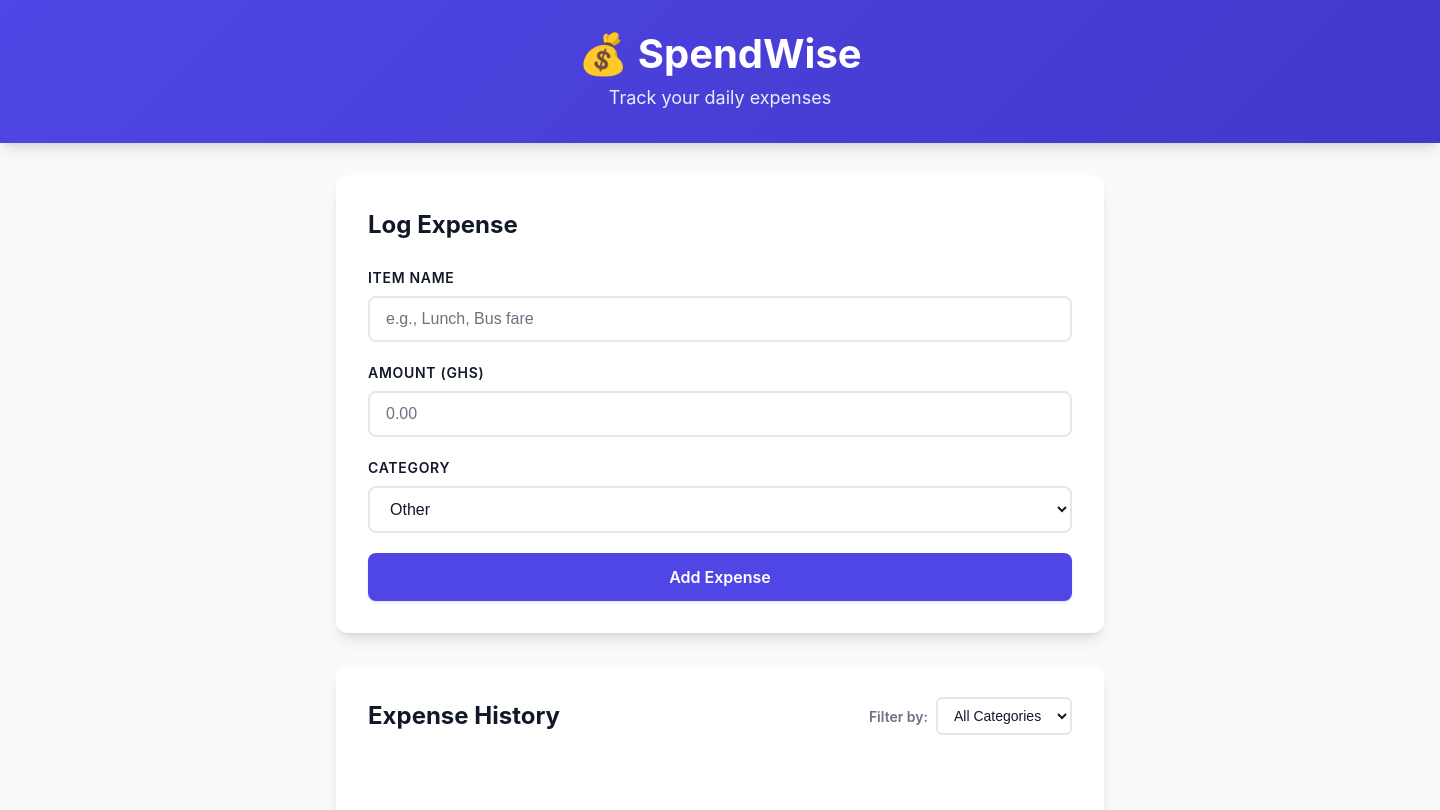
it: User Story 1: Log Expense - Frontend UI › Acceptance Criteria #2: Add Expense button saves to database › should display success message after successful submission
This screenshot has width=1440, height=810.
Type "Coffee" into the field labelled "Item Name". click: [720, 319]
box: [368, 296, 1072, 342]
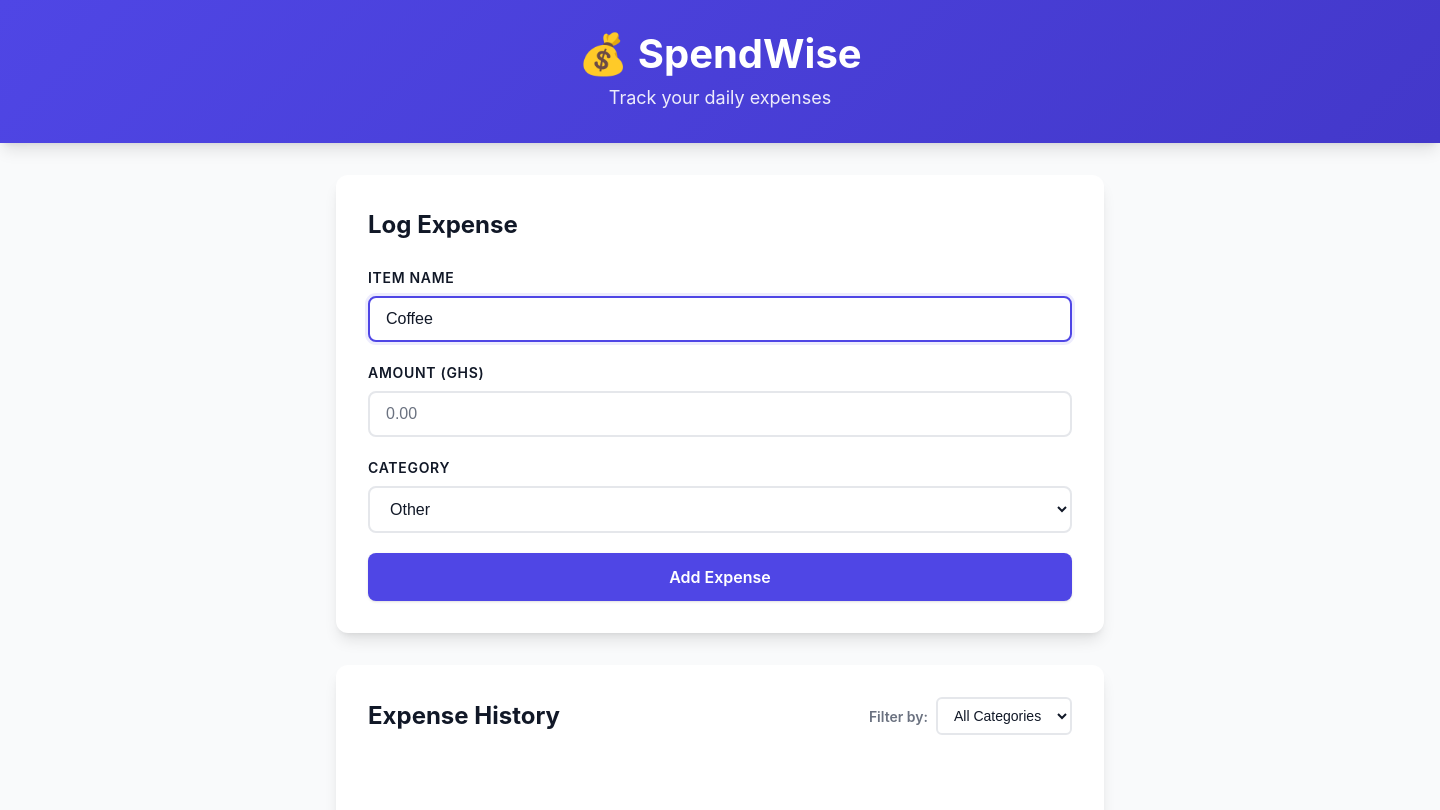
Type "5.00" into the number field labelled "Amount (GHS)". click: [720, 414]
box: [368, 391, 1072, 437]
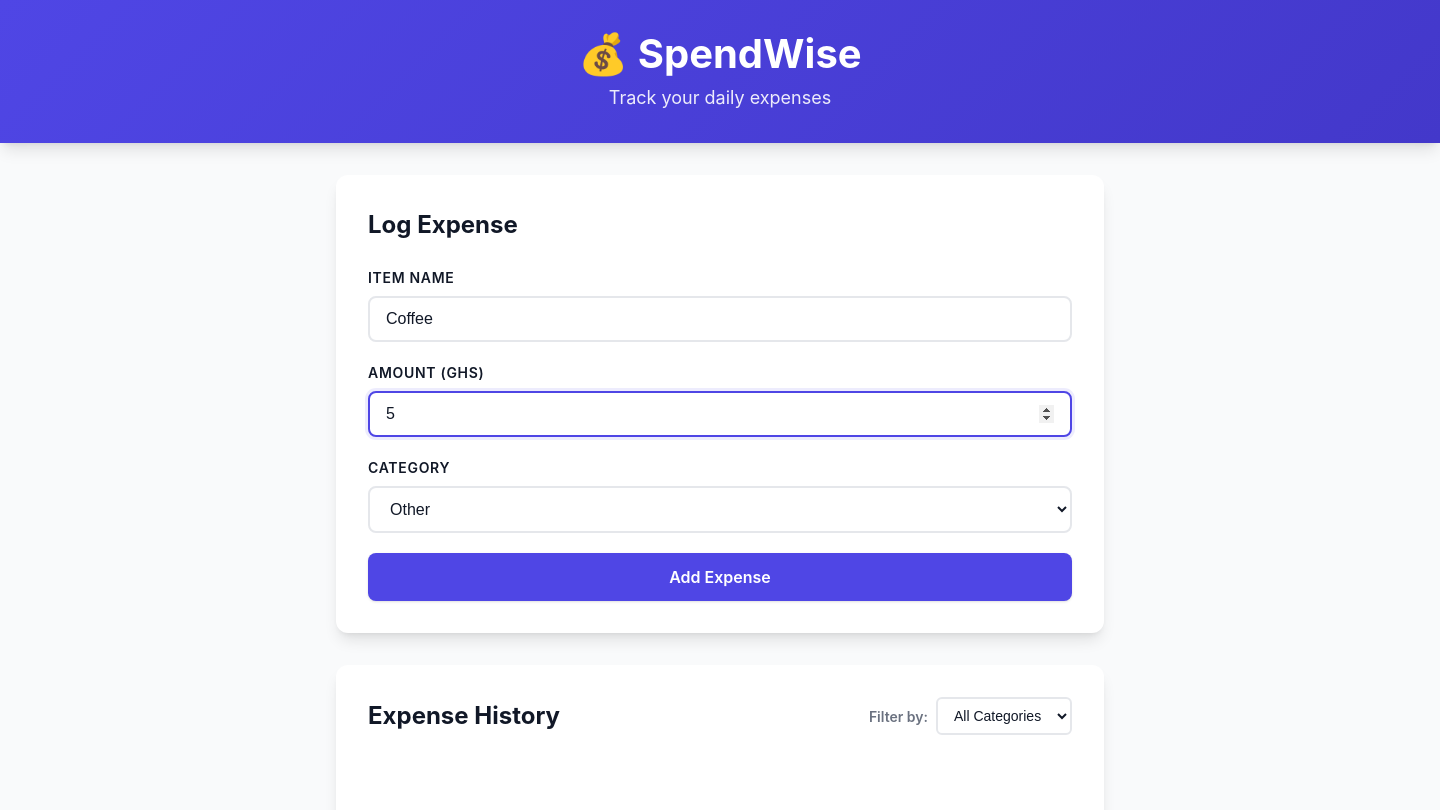
Click the button "Add Expense". click: [720, 577]
box: [368, 553, 1072, 601]
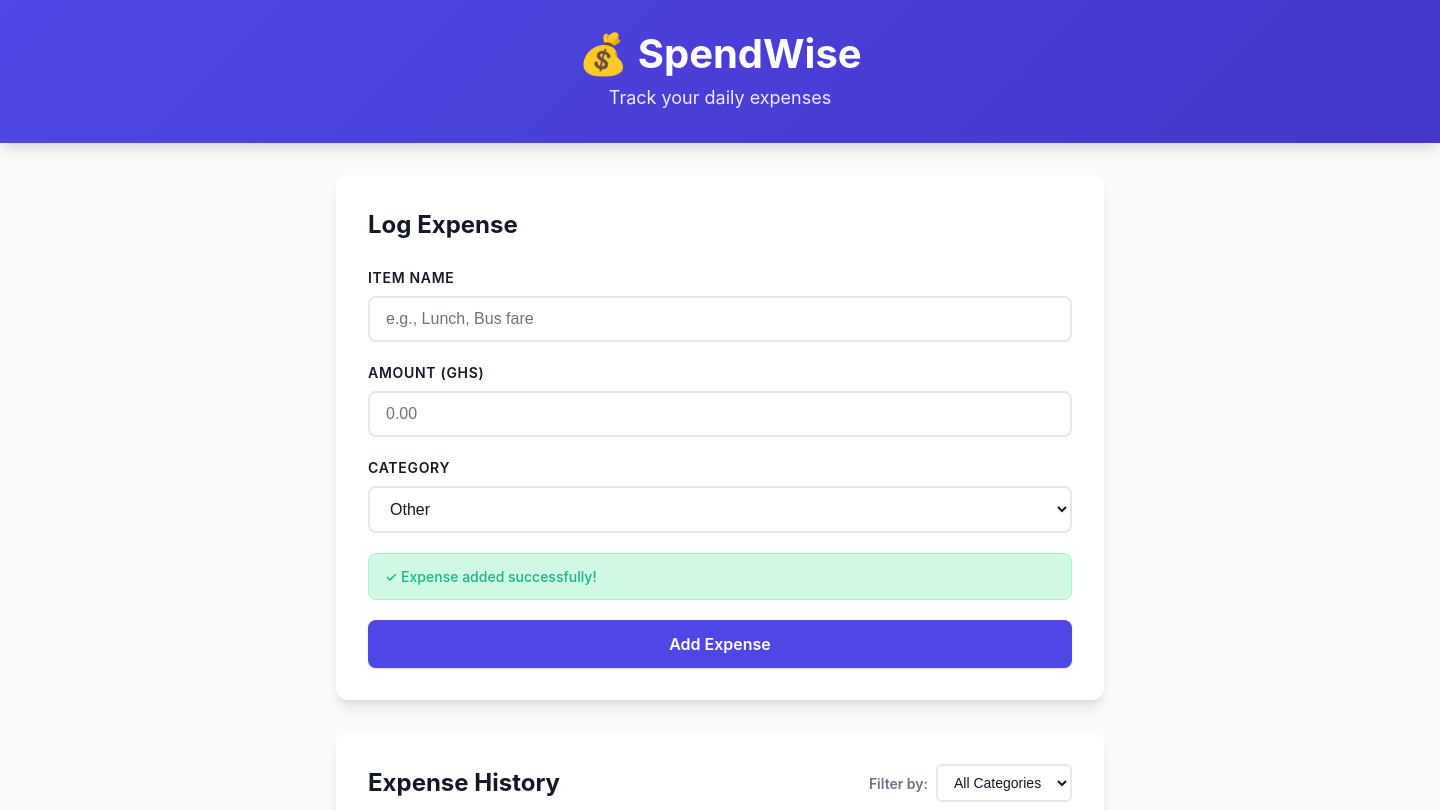
expect the text "✓ Expense added successfully!" is shown: met, box [368, 553, 1072, 600]
